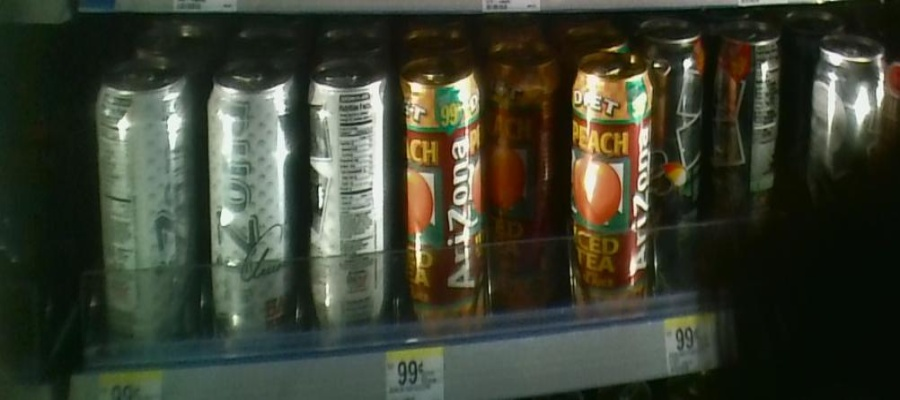bottle: (89, 53, 200, 357), (295, 50, 390, 365), (200, 50, 295, 361), (393, 50, 481, 363), (571, 52, 655, 318), (490, 38, 559, 333), (712, 21, 778, 288), (656, 24, 707, 278)
